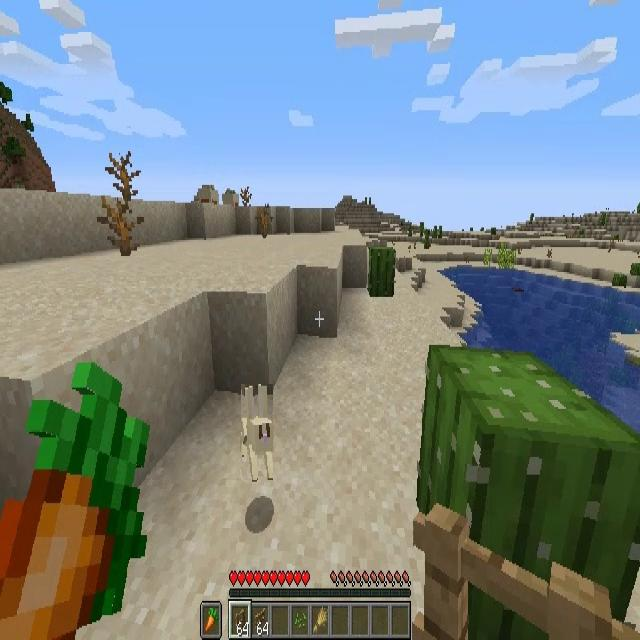rabbit: (241, 384, 273, 482)
